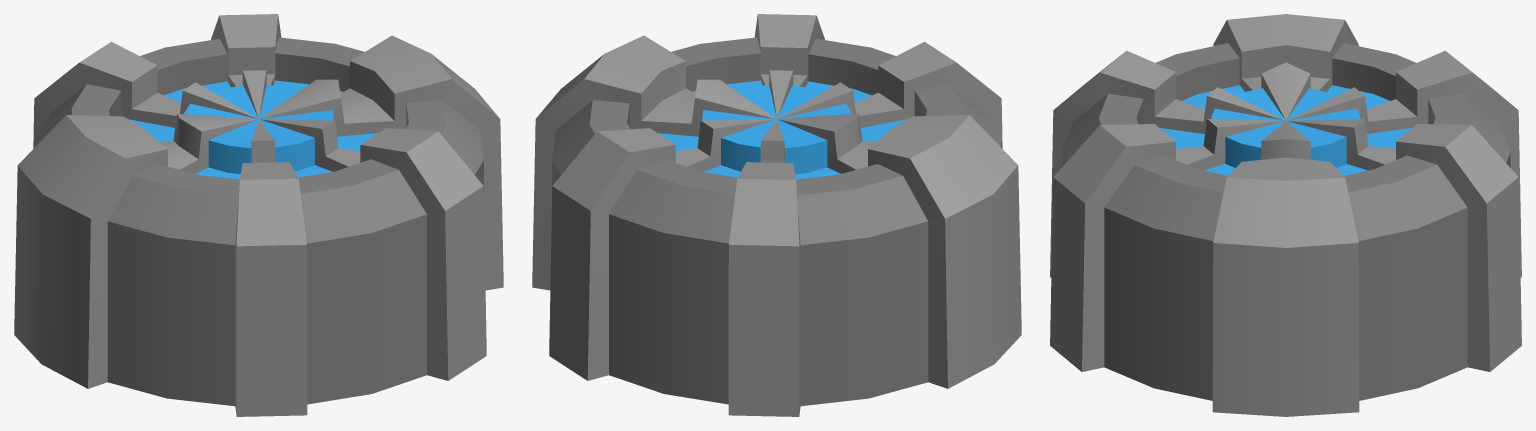
The model's file is JT_Reactor_Temp.fbx.
The picture shows the model from 3 angles, left to right: view 1: azimuth 30°, elevation 25°; view 2: azimuth 150°, elevation 25°; view 3: azimuth 270°, elevation 25°; orthographic projection.
Visible parts, largest first — view 1: JT_Reactor_Temp; view 2: JT_Reactor_Temp; view 3: JT_Reactor_Temp.
Part boxes in pixels (x1,y1,x2,y2): JT_Reactor_Temp: [14, 14, 503, 416]; JT_Reactor_Temp: [532, 14, 1021, 416]; JT_Reactor_Temp: [1050, 14, 1521, 416].
Size of the model in its own units: 16.81 by 7.96 by 15.91.
